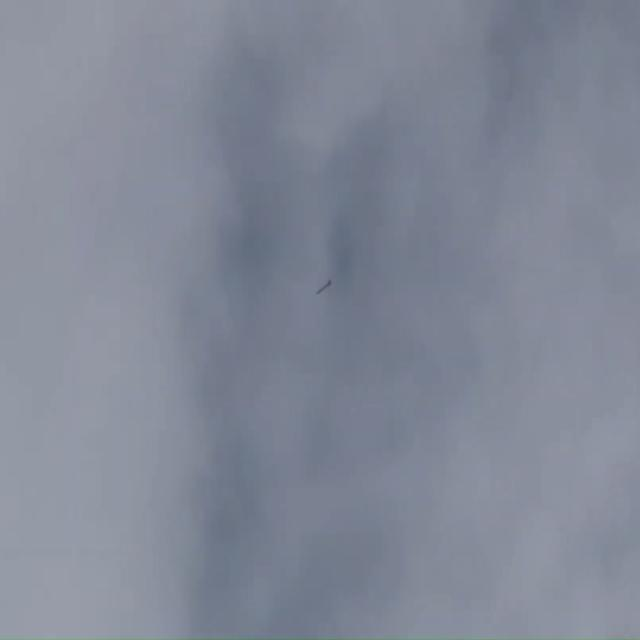Rocket: (316, 279, 332, 294)
